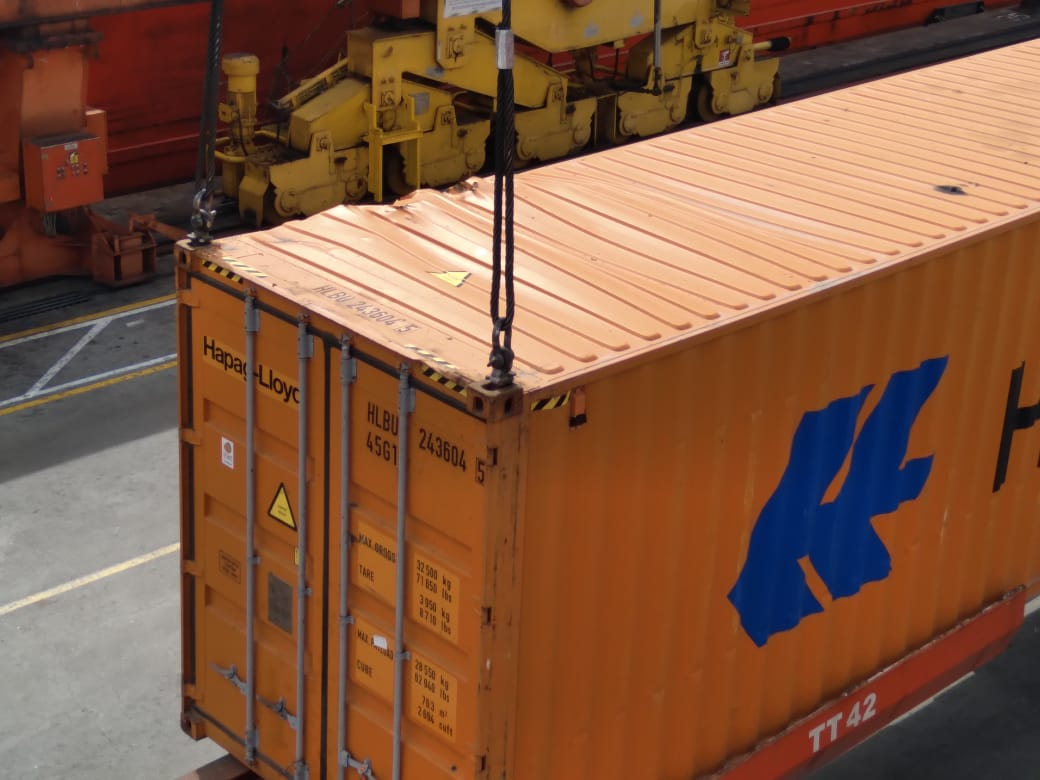dented: (320, 167, 492, 258)
hole: (938, 165, 977, 218)
